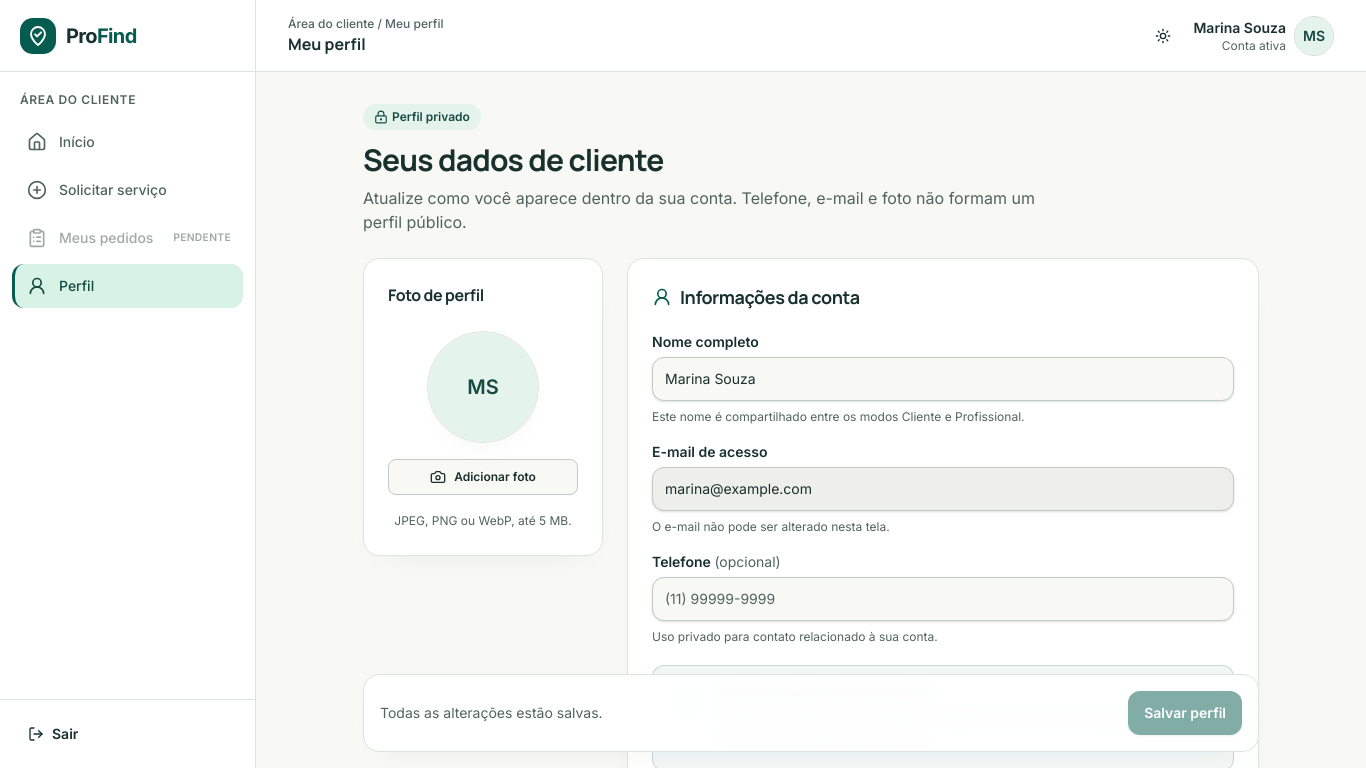
ClientProfilePage › mantém os dados digitados quando a gravação falha e permite tentar novamente
Step 1. Replace the text in the field labelled "Nome completo" with "Nome preservado" → (943, 379), box [652, 357, 1234, 401]
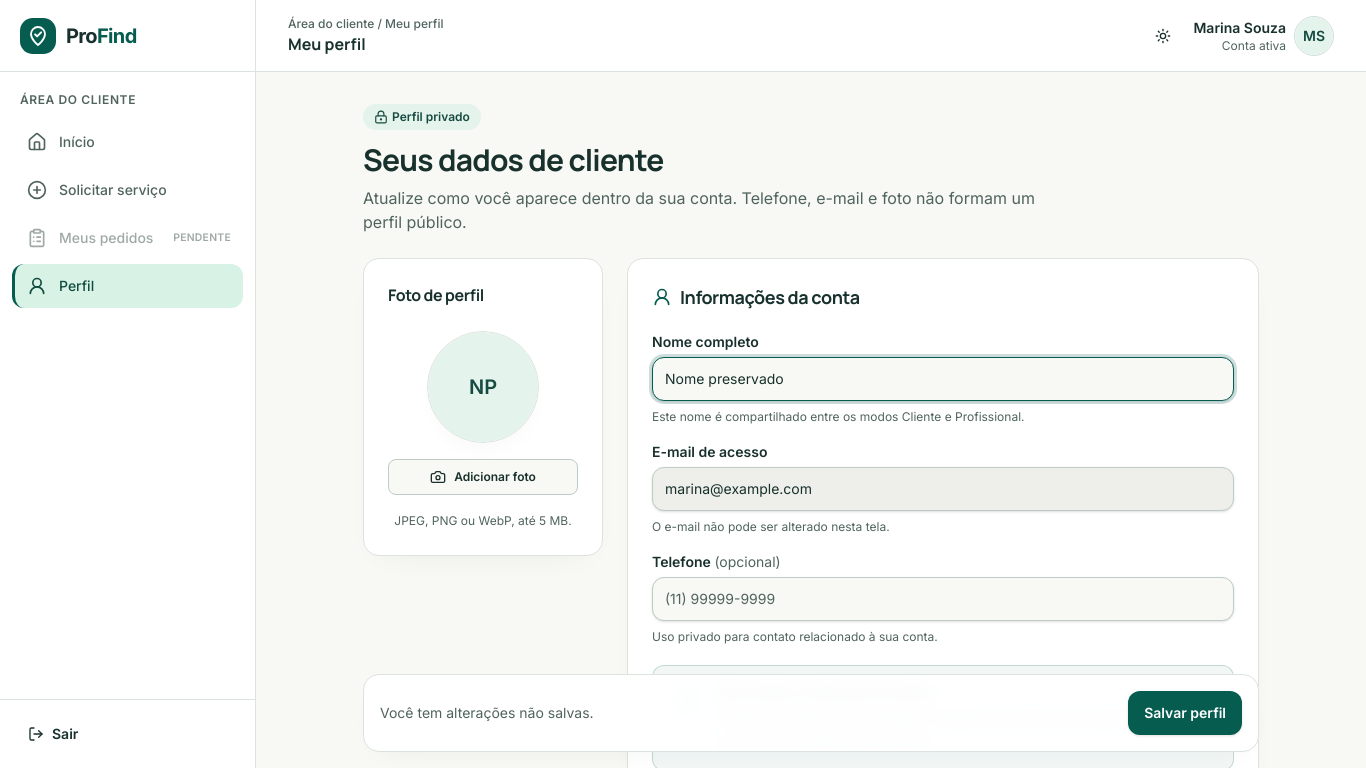
Step 2. Click the button "Salvar perfil" → (1185, 713), box [1128, 691, 1242, 735]
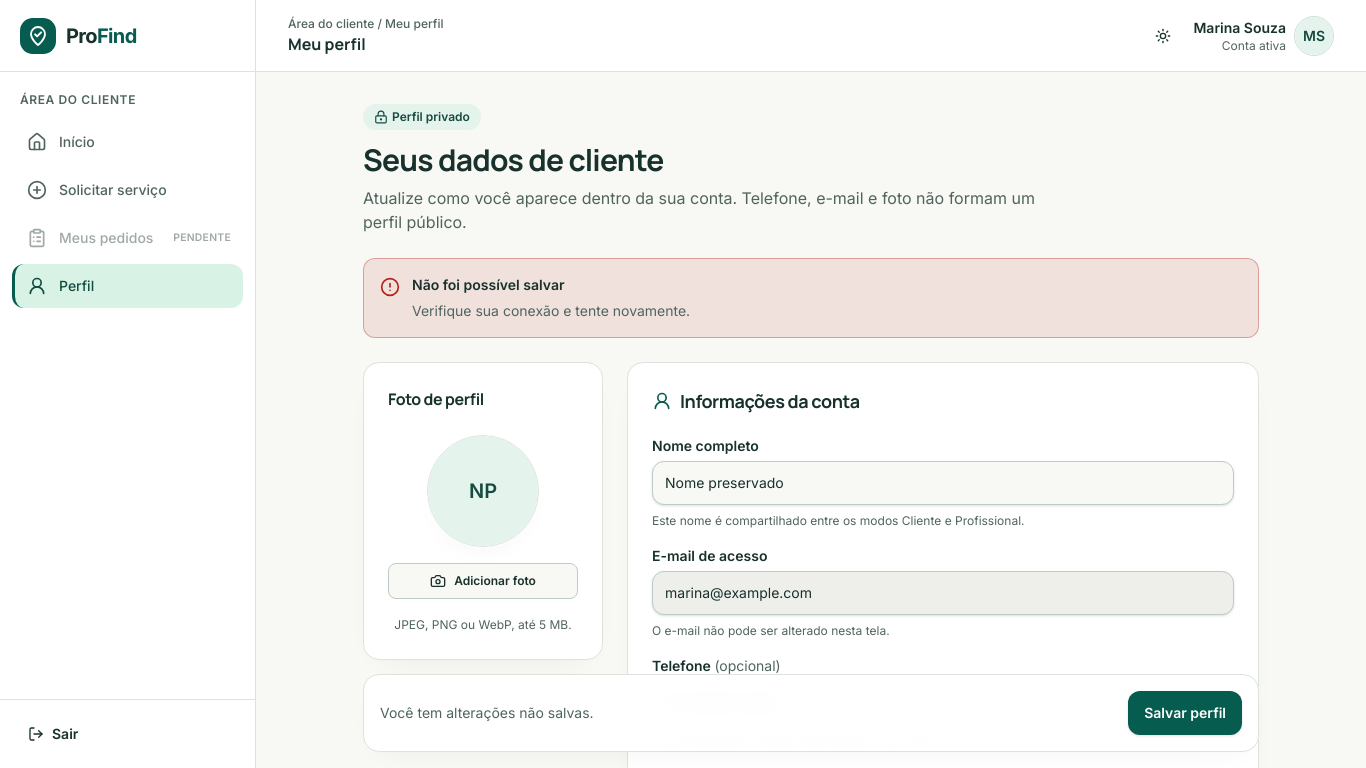
Check: the message shows "conexão", box [412, 302, 690, 319]
Step 3. Click the button "Salvar perfil" → (1185, 713), box [1128, 691, 1242, 735]
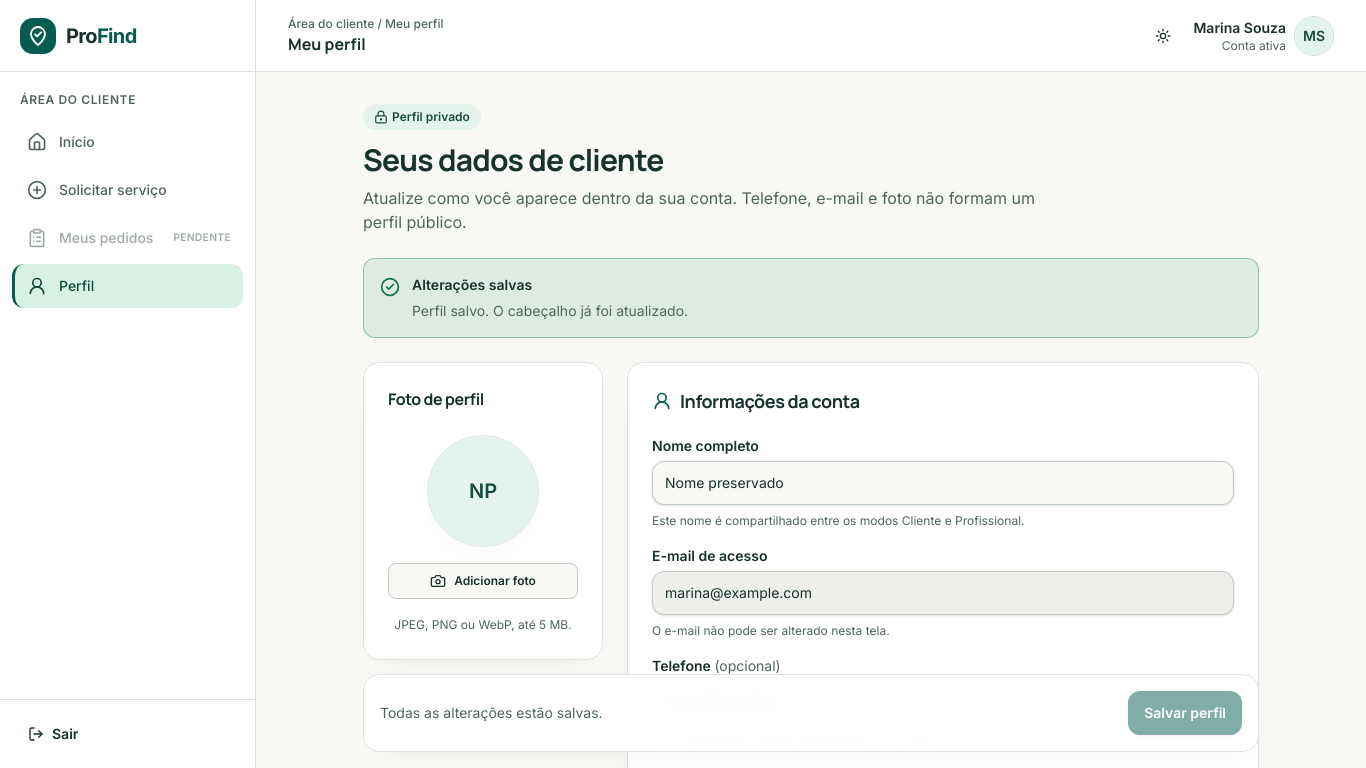
Check: the text "Perfil salvo. O cabeçalho já foi atualizado." is shown, box [412, 302, 688, 319]
